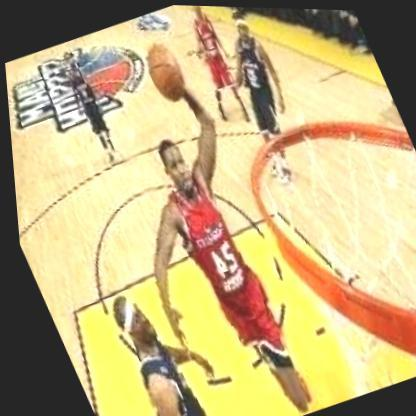basketball: (131, 33, 195, 103)
